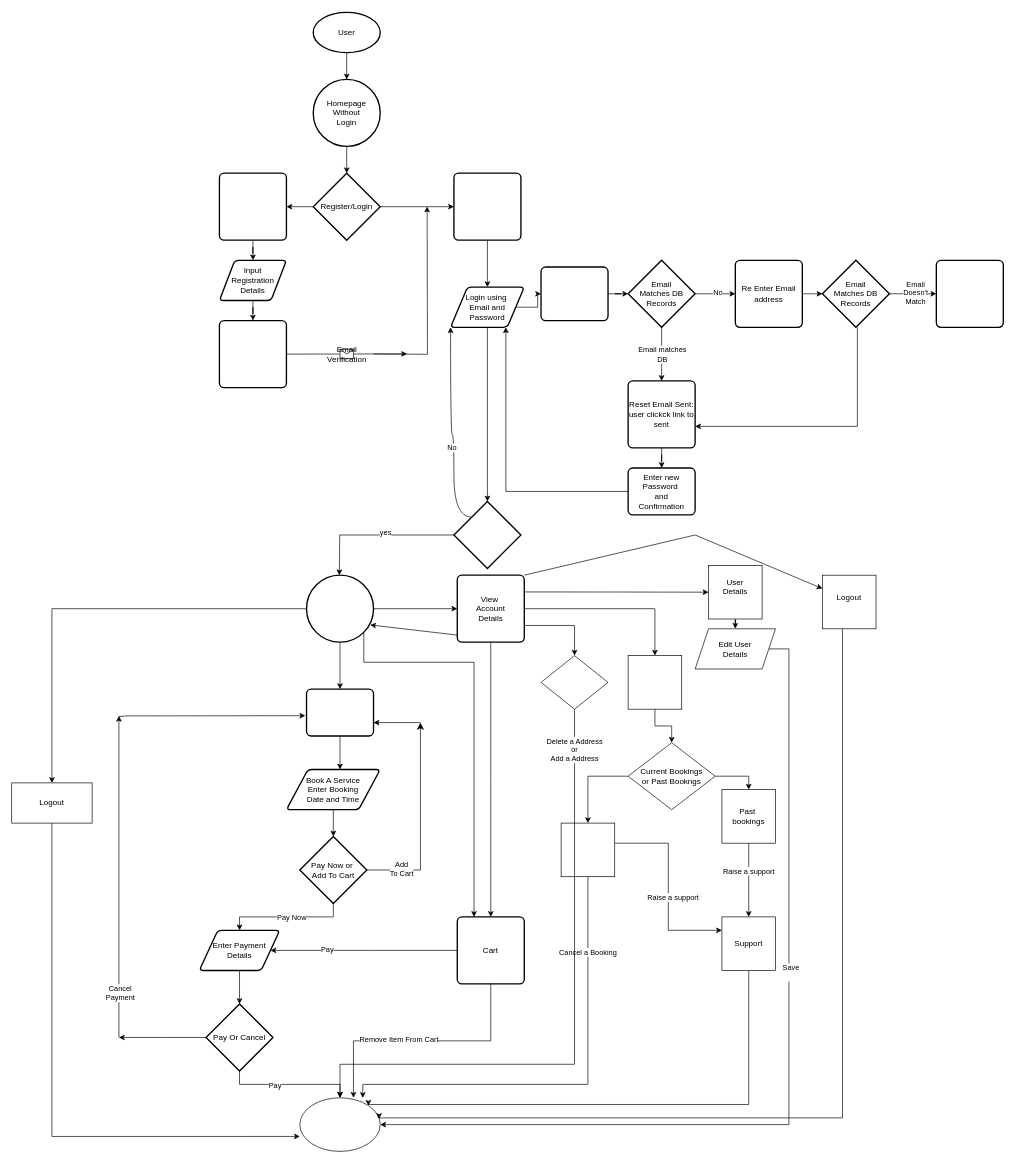
Some shapes in this 1016 by 1163 pixel diagram are drawn without their labels. Here are the shapes that lost their labels. From the top down, the box of each, then its label:
(218, 172, 287, 241): Register
(453, 172, 521, 241): Login
(540, 266, 608, 321): Forgot Password User Enters Email Address
(935, 259, 1004, 328): Registration Process
(218, 320, 287, 388): Submit
(453, 500, 521, 569): Login Info Correct
(306, 574, 374, 643): Homepage With Login
(540, 655, 608, 709): Delete Or Add Address
(627, 655, 682, 709): My Bookings
(306, 688, 374, 736): Search Services
(560, 822, 615, 877): Current Bookings
(299, 1097, 380, 1151): End
